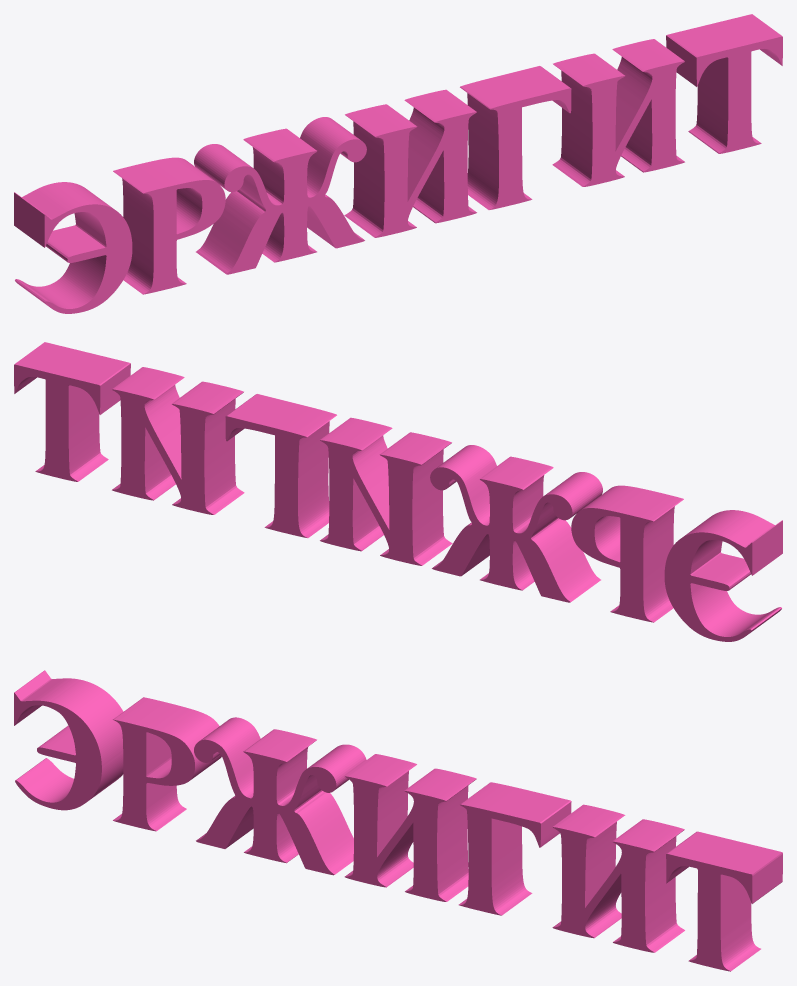
3 renders of one model, top to bottom at view 1: azimuth 30°, elevation 25°; view 2: azimuth 150°, elevation 25°; view 3: azimuth 330°, elevation 25°, orthographic.
Visible parts, largest first — view 1: Node1, Node3, Node2, Node5, Node4, Node6, Node7; view 2: Node1, Node3, Node2, Node5, Node4, Node6, Node7; view 3: Node1, Node2, Node3, Node5, Node6, Node4, Node7.
Part boxes in pixels (<box>): Node1: <box>194,117,366,274</box>; Node3: <box>552,39,684,186</box>; Node2: <box>344,89,476,237</box>; Node5: <box>14,182,132,313</box>; Node4: <box>113,157,225,294</box>; Node6: <box>666,14,782,153</box>; Node7: <box>460,66,571,209</box>; Node1: <box>430,445,602,602</box>; Node3: <box>112,367,244,514</box>; Node2: <box>320,417,452,565</box>; Node5: <box>664,510,782,641</box>; Node4: <box>571,485,683,622</box>; Node6: <box>14,342,130,481</box>; Node7: <box>225,394,336,537</box>; Node1: <box>194,717,366,875</box>; Node2: <box>344,754,476,901</box>; Node3: <box>552,804,684,952</box>; Node5: <box>14,670,123,810</box>; Node6: <box>666,831,782,971</box>; Node4: <box>113,697,221,831</box>; Node7: <box>458,782,571,915</box>.
Size of the model in its own units: 140 by 19.3 by 10.
